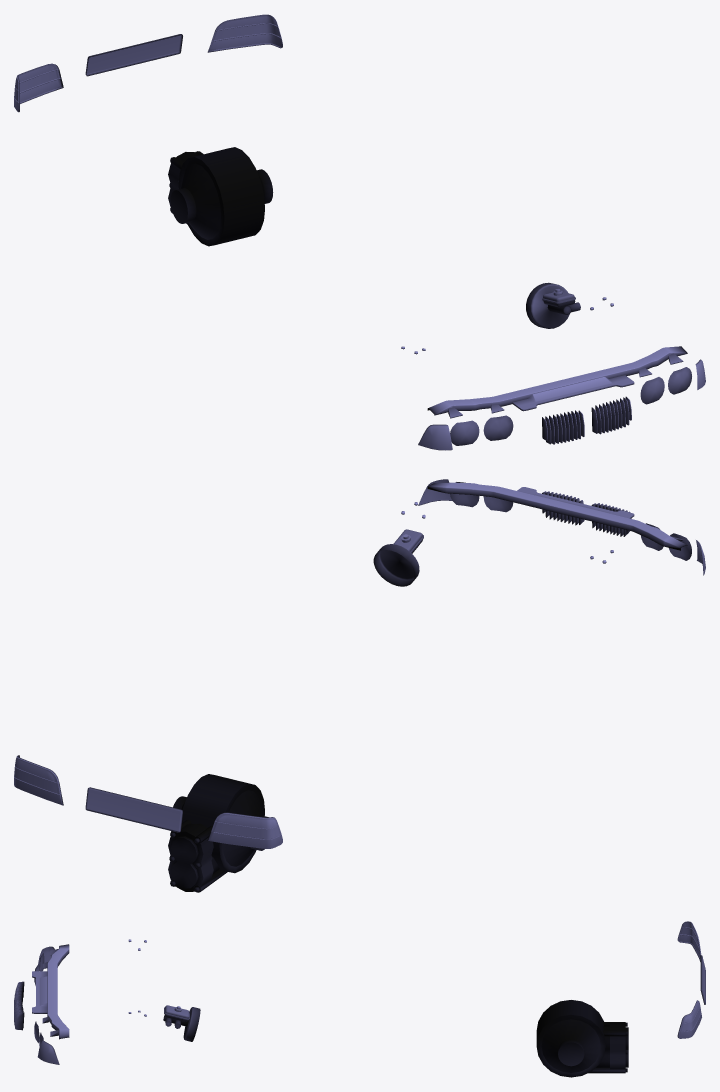
The model's file is AdamLZ_E36_Body_Detail.fbx.
3 views of the same model, one above another, from view 1: azimuth 30°, elevation 25°; view 2: azimuth 150°, elevation 25°; view 3: azimuth 270°, elevation 25° (orthographic). The views are drawn at different scales.
Visible parts, largest first — view 1: AdamLZ_E36_Body_Detail; view 2: AdamLZ_E36_Body_Detail; view 3: AdamLZ_E36_Body_Detail.
Part boxes in pixels (x1,y1,x2,y2): AdamLZ_E36_Body_Detail: (14, 14, 705, 450); AdamLZ_E36_Body_Detail: (14, 479, 705, 892); AdamLZ_E36_Body_Detail: (14, 921, 705, 1077).
Size of the model in its own units: 154 by 70.04 by 427.
